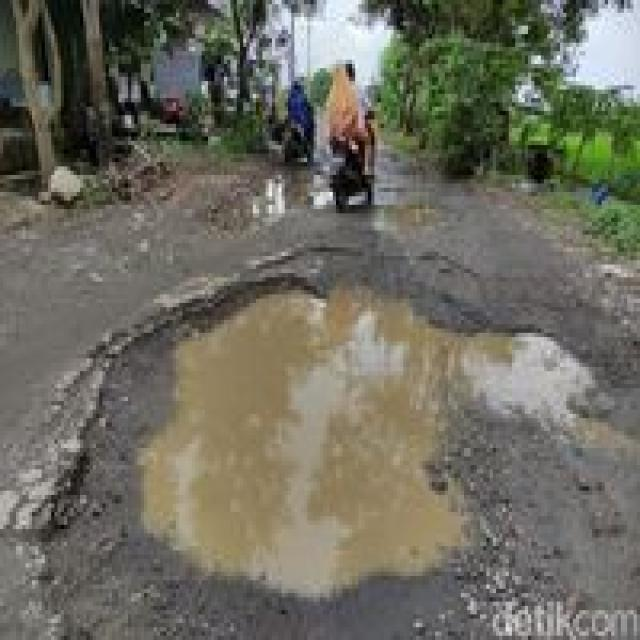potholes: (77, 292, 531, 596)
